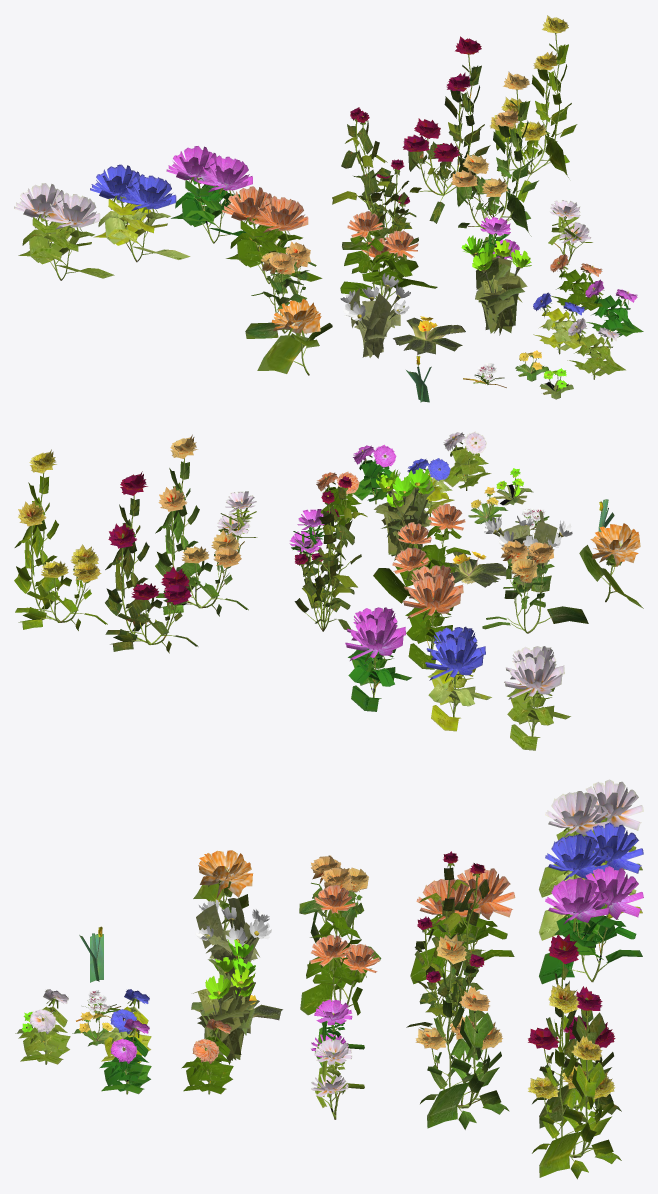
File: yello_flower2.FBX
The picture shows the model from 3 angles, top to bottom: view 1: azimuth 30°, elevation 25°; view 2: azimuth 150°, elevation 25°; view 3: azimuth 270°, elevation 25°; orthographic projection. The views are drawn at different scales.
Parts seen in each view (by area): view 1: Yellow_F, White_Fl002, Yellow_F001, White_Fl003, White_Fl001, White_Fl, Yellow_F002, Orange_S, Red_Rose, Colorful, Bonny_Cl, Small_Mu (+10 smaller); view 2: Yellow_F001, Yellow_F002, Yellow_F, Red_Rose, White_Fl001, White_Fl003, White_Fl002, Orange_S, White_Fl, Multicol, Colorful, Small_Mu (+10 smaller); view 3: Yellow_F002, Yellow_F, White_Fl001, Red_Rose, Orange_S, Yellow_F001, White_Fl, White_Fl002, Colorful, White_Fl003, Bonny_Cl, Small_Mu (+9 smaller).
Boxes of the visible parts, bbox=[...] form: Yellow_F: bbox=[451, 71, 538, 250]; White_Fl002: bbox=[90, 164, 190, 262]; Yellow_F001: bbox=[402, 36, 490, 223]; White_Fl003: bbox=[14, 183, 114, 280]; White_Fl001: bbox=[166, 146, 252, 243]; White_Fl: bbox=[222, 186, 322, 283]; Yellow_F002: bbox=[490, 15, 577, 202]; Orange_S: bbox=[340, 211, 437, 299]; Red_Rose: bbox=[332, 107, 418, 258]; Colorful: bbox=[461, 235, 531, 335]; Bonny_Cl: bbox=[340, 273, 410, 358]; Small_Mu: bbox=[257, 298, 332, 375]; Yellow_F001: bbox=[105, 471, 198, 653]; Yellow_F002: bbox=[14, 449, 107, 630]; Yellow_F: bbox=[155, 434, 248, 616]; Red_Rose: bbox=[294, 476, 367, 631]; White_Fl001: bbox=[345, 607, 411, 711]; White_Fl003: bbox=[504, 646, 570, 750]; White_Fl002: bbox=[425, 626, 491, 731]; Orange_S: bbox=[373, 503, 470, 603]; White_Fl: bbox=[402, 565, 463, 669]; Multicol: bbox=[482, 540, 588, 633]; Colorful: bbox=[374, 468, 435, 560]; Small_Mu: bbox=[579, 523, 643, 608]; Yellow_F002: bbox=[528, 983, 621, 1179]; Yellow_F: bbox=[415, 934, 509, 1129]; White_Fl001: bbox=[539, 866, 643, 984]; Red_Rose: bbox=[406, 851, 489, 1044]; Orange_S: bbox=[300, 885, 380, 1015]; Yellow_F001: bbox=[528, 934, 621, 1128]; White_Fl: bbox=[410, 868, 515, 984]; White_Fl002: bbox=[539, 822, 643, 940]; Colorful: bbox=[191, 939, 257, 1064]; White_Fl003: bbox=[539, 779, 643, 897]; Bonny_Cl: bbox=[195, 898, 271, 984]; Small_Mu: bbox=[193, 850, 253, 930].
Size of the model in its own units: 2.54 by 0.7545 by 2.22.
